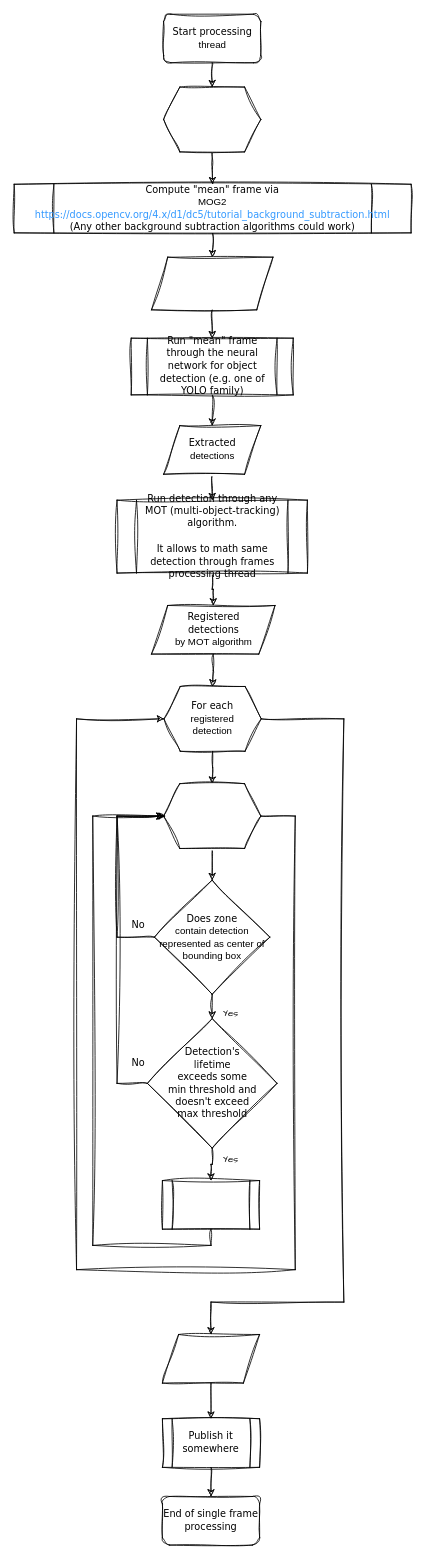
Image size: 425x1559. Some labels were removed from this diagram. Each missing label, with the centre of its shape:
Extracted "background" image (a.k.a. "mean" frame): point (212, 283)
For each incoming frame: point (212, 119)
For each zone of interest: point (212, 815)
Newly registered events: point (211, 1358)
Register new event as road anomaly: point (211, 1204)
